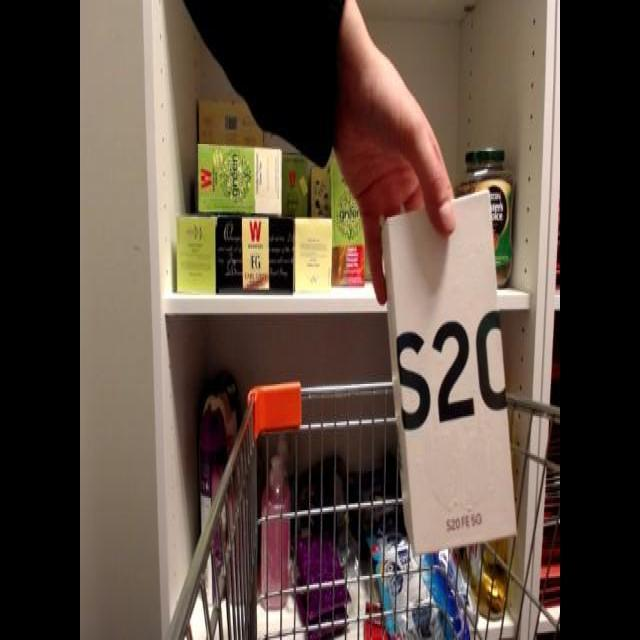Samsung S20: (376, 181, 526, 553)
